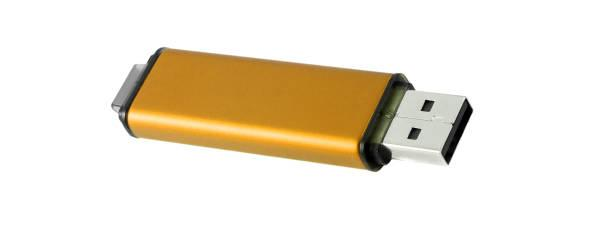USB Flash Drive: (110, 47, 473, 172)
